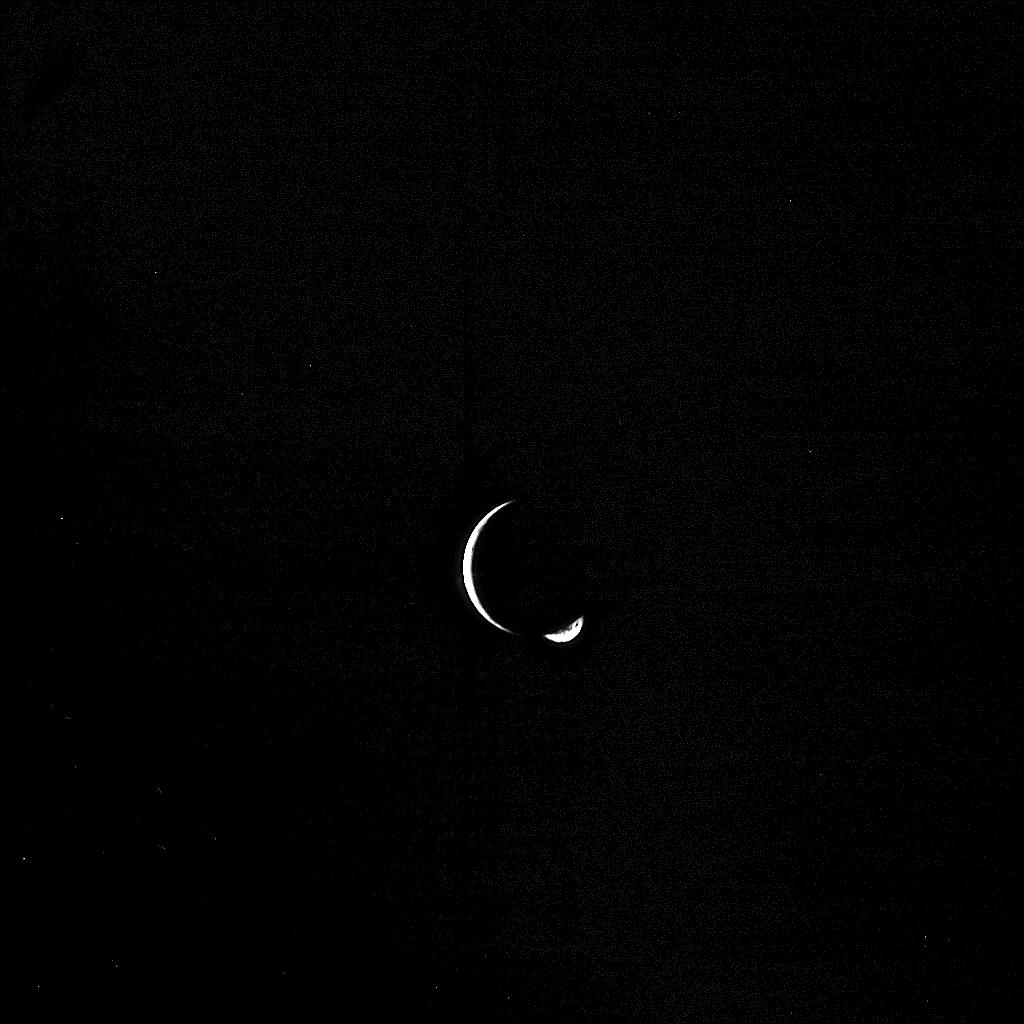plumes: (546, 616, 584, 647)
